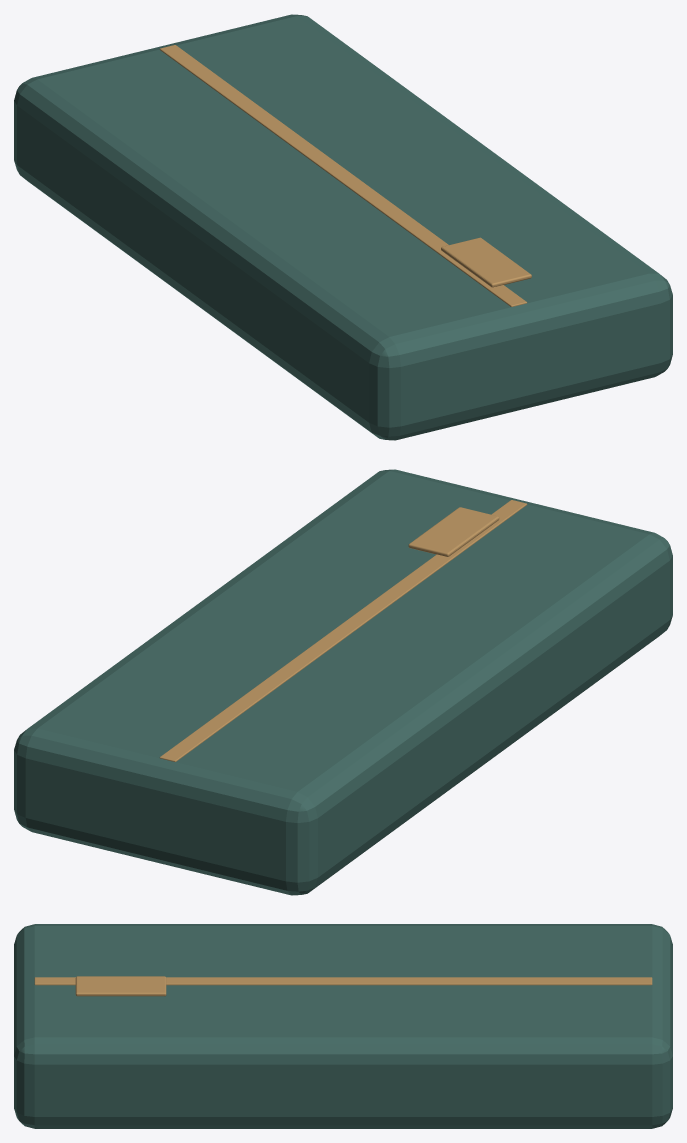
Rendered from pencilcase.glb.
The picture shows the model from 3 angles, top to bottom: view 1: azimuth 30°, elevation 25°; view 2: azimuth 150°, elevation 25°; view 3: azimuth 270°, elevation 25°; orthographic projection. The views are drawn at different scales.
Parts seen in each view (by area): view 1: pencilcase; view 2: pencilcase; view 3: pencilcase.
Boxes of the visible parts, bbox=[...] form: pencilcase: bbox=[14, 14, 672, 440]; pencilcase: bbox=[14, 469, 672, 895]; pencilcase: bbox=[14, 924, 672, 1128].
Size of the model in its own units: 0.037 by 0.0126 by 0.08.
